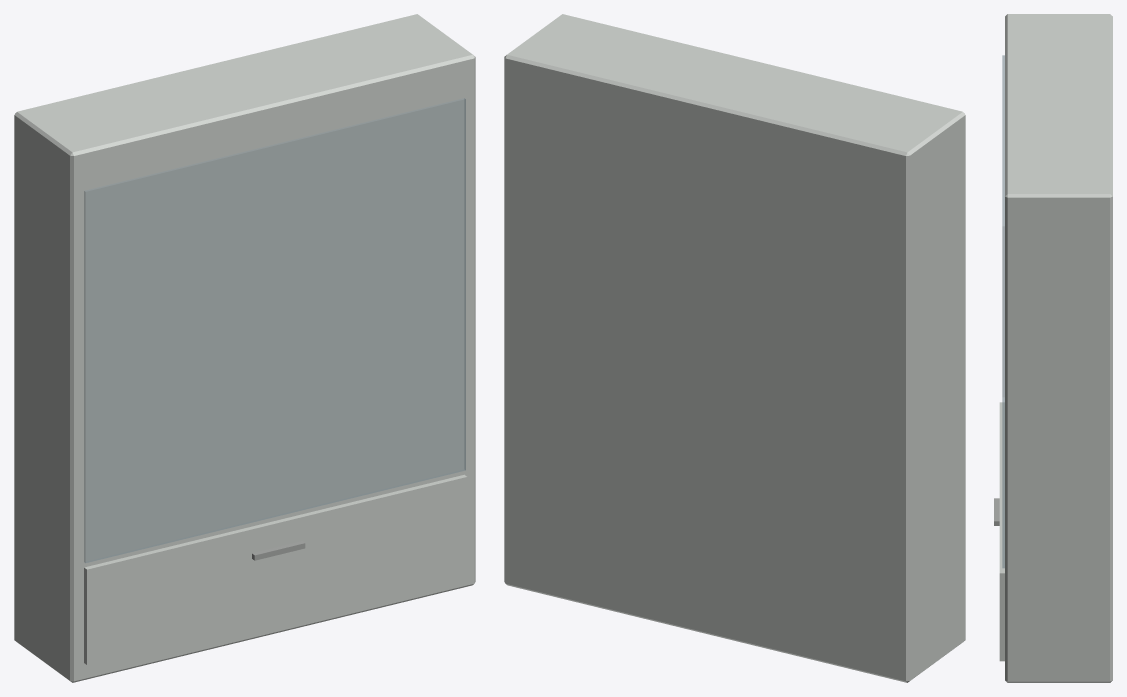
Rendered from pharm_shelf.glb.
3 views of the same model, side by side, from view 1: azimuth 30°, elevation 25°; view 2: azimuth 150°, elevation 25°; view 3: azimuth 270°, elevation 25° (orthographic). The views are drawn at different scales.
Parts seen in each view (by area): view 1: PharmShelf, anim_drawer_1; view 2: PharmShelf; view 3: PharmShelf, anim_drawer_1.
Part boxes in pixels (x1,y1,x2,y2): PharmShelf: [14, 14, 475, 682]; anim_drawer_1: [84, 474, 467, 664]; PharmShelf: [504, 14, 965, 682]; PharmShelf: [1002, 14, 1112, 682]; anim_drawer_1: [994, 402, 1004, 661].
Bounding box in the file's own units: 1.6 × 2 × 0.44.
